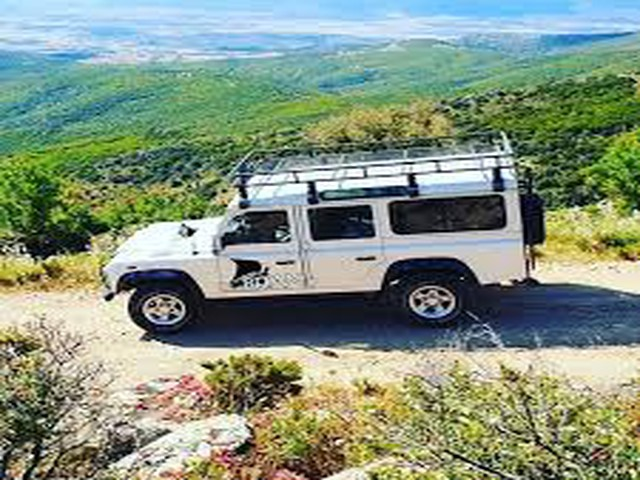Vehicle: (90, 127, 550, 332)
